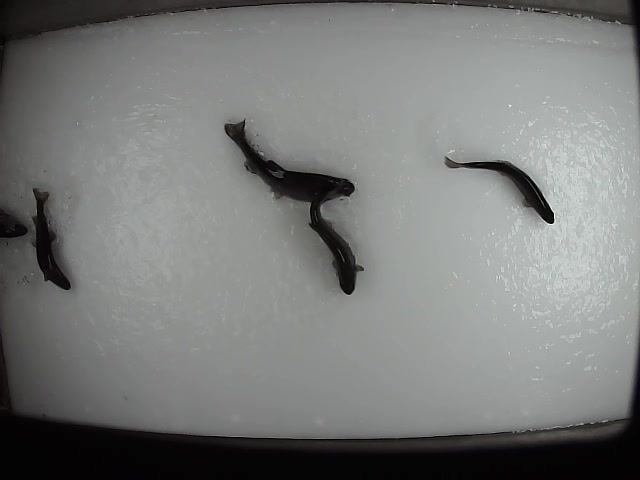Fish: (224, 118, 354, 202), (445, 156, 554, 224), (308, 185, 364, 295), (31, 187, 71, 289)
